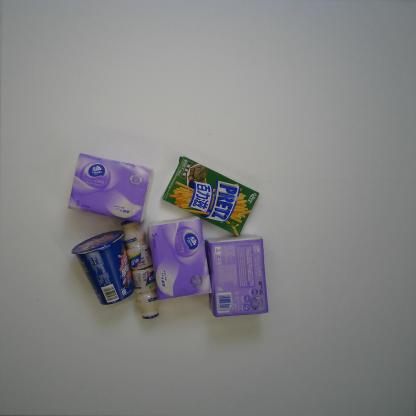Dessert: (159, 155, 260, 238), (71, 229, 135, 306)
Milk: (120, 220, 153, 271), (132, 266, 159, 320)
Tissue: (66, 152, 156, 224), (147, 216, 213, 301), (204, 233, 269, 318)
